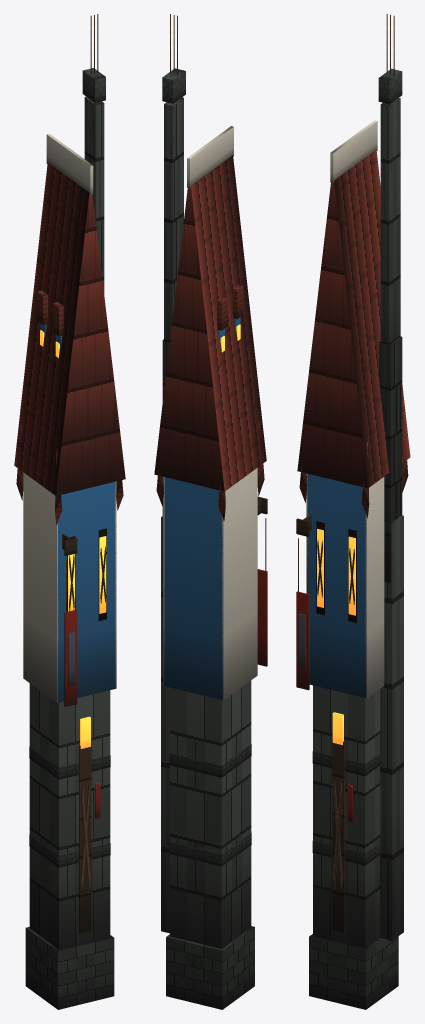
Rendered from tavern.gltf.
3 views of the same model, side by side, from view 1: azimuth 30°, elevation 25°; view 2: azimuth 150°, elevation 25°; view 3: azimuth 330°, elevation 25° (orthographic).
Visible parts, largest first — view 1: tavern; view 2: tavern; view 3: tavern.
Part boxes in pixels (<box>): tavern: <box>14,14,125,1009</box>; tavern: <box>154,14,267,1009</box>; tavern: <box>296,14,410,1009</box>.
Bounding box in the file's own units: 1.3 × 16.45 × 1.5.
1 material, 1 textured.
